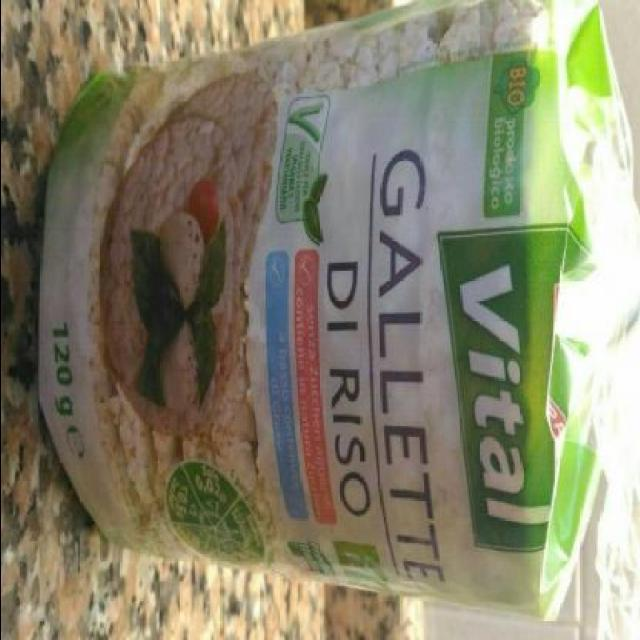Gallette di riso: (20, 9, 629, 622)
